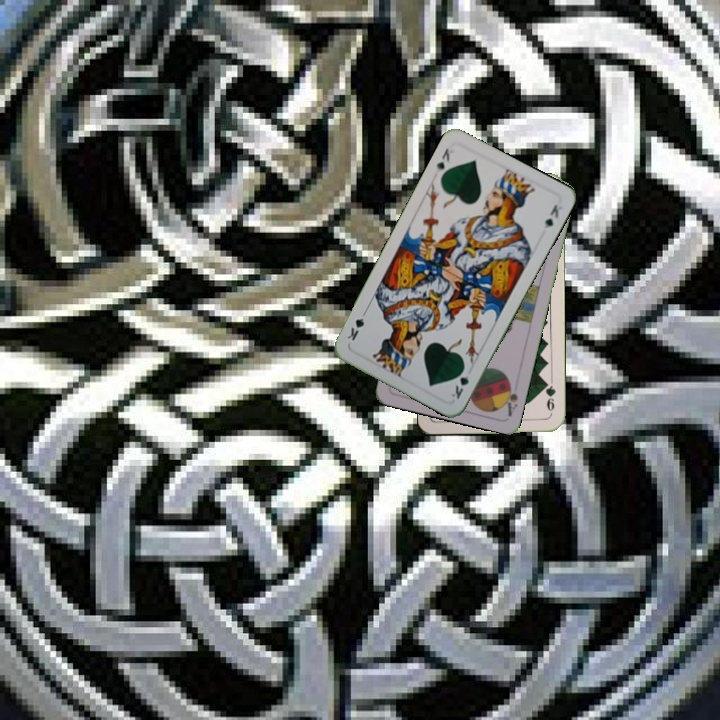G9: (541, 377, 558, 417)
GK: (447, 363, 472, 401), (432, 144, 456, 176)
SA: (499, 377, 520, 418)
